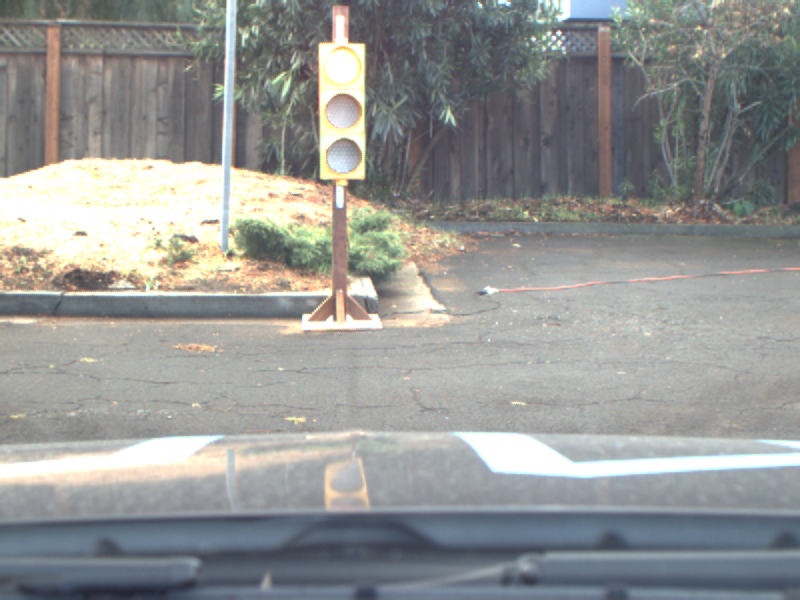Red: (318, 42, 366, 178)
